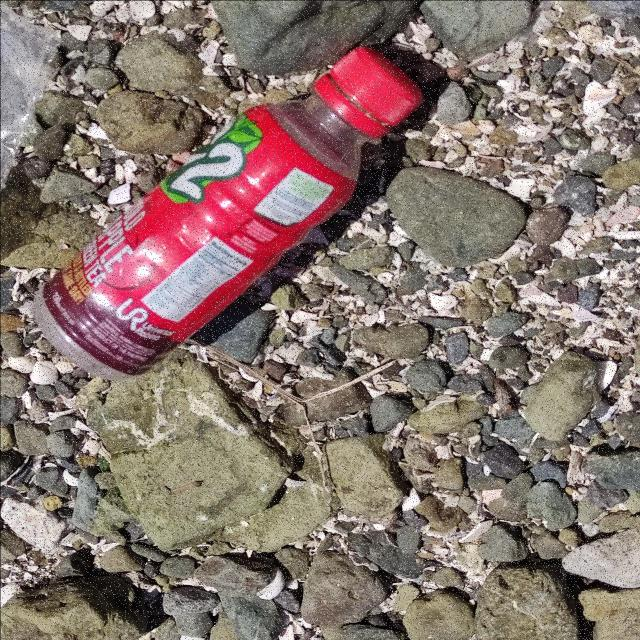plastic_waste: (27, 46, 427, 380)
